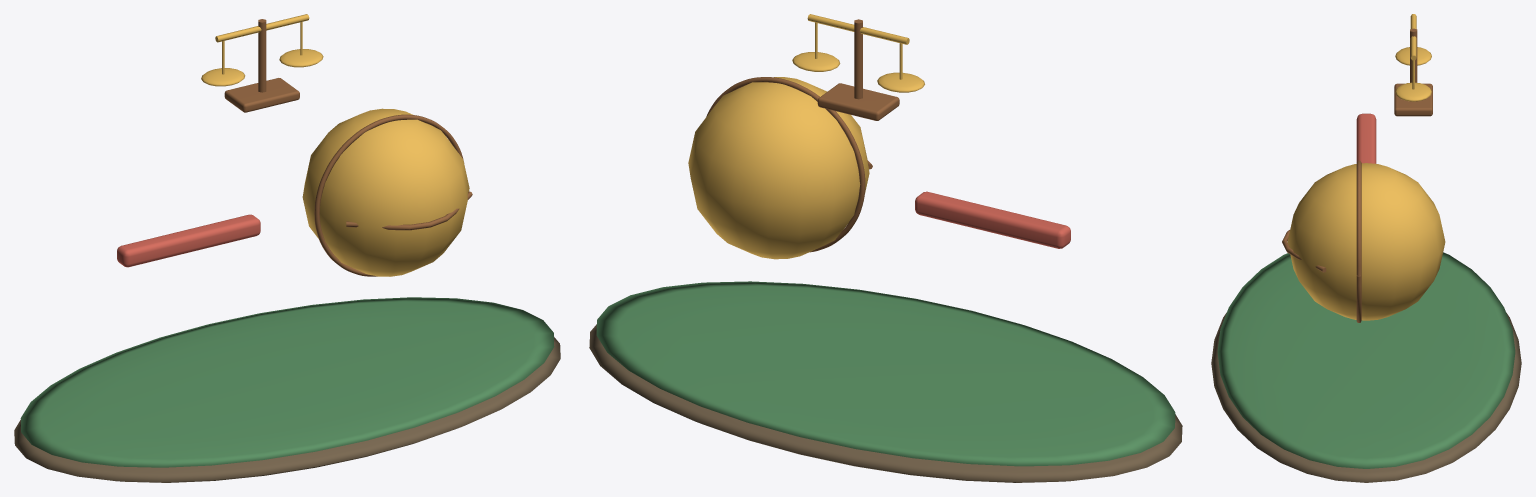
The model's file is complete-third-subtracting-fat.glb.
3 renders of one model, left to right at view 1: azimuth 30°, elevation 25°; view 2: azimuth 150°, elevation 25°; view 3: azimuth 270°, elevation 25°, orthographic. The views are drawn at different scales.
Visible parts, largest first — view 1: complete-third-subtracting-fat_surface_01, complete-third-subtracting-fat_surface_03, complete-third-subtracting-fat_surface_00, complete-third-subtracting-fat_surface_04, complete-third-subtracting-fat_surface_02; view 2: complete-third-subtracting-fat_surface_01, complete-third-subtracting-fat_surface_03, complete-third-subtracting-fat_surface_00, complete-third-subtracting-fat_surface_04, complete-third-subtracting-fat_surface_02; view 3: complete-third-subtracting-fat_surface_01, complete-third-subtracting-fat_surface_03, complete-third-subtracting-fat_surface_00, complete-third-subtracting-fat_surface_04, complete-third-subtracting-fat_surface_02.
Part boxes in pixels (left/top/right/bottom): complete-third-subtracting-fat_surface_01: left=20, top=297, right=554, bottom=467; complete-third-subtracting-fat_surface_03: left=201, top=14, right=469, bottom=276; complete-third-subtracting-fat_surface_00: left=14, top=337, right=560, bottom=482; complete-third-subtracting-fat_surface_04: left=224, top=19, right=472, bottom=276; complete-third-subtracting-fat_surface_02: left=117, top=214, right=260, bottom=267; complete-third-subtracting-fat_surface_01: left=596, top=281, right=1175, bottom=466; complete-third-subtracting-fat_surface_03: left=688, top=14, right=924, bottom=259; complete-third-subtracting-fat_surface_00: left=589, top=324, right=1182, bottom=482; complete-third-subtracting-fat_surface_04: left=706, top=19, right=899, bottom=252; complete-third-subtracting-fat_surface_02: left=915, top=191, right=1070, bottom=248; complete-third-subtracting-fat_surface_01: left=1217, top=252, right=1515, bottom=468; complete-third-subtracting-fat_surface_03: left=1287, top=14, right=1445, bottom=320; complete-third-subtracting-fat_surface_00: left=1211, top=312, right=1521, bottom=482; complete-third-subtracting-fat_surface_04: left=1282, top=28, right=1432, bottom=322; complete-third-subtracting-fat_surface_02: left=1356, top=113, right=1376, bottom=163.
Bounding box in the file's own units: 4.56 × 3.09 × 2.5.
